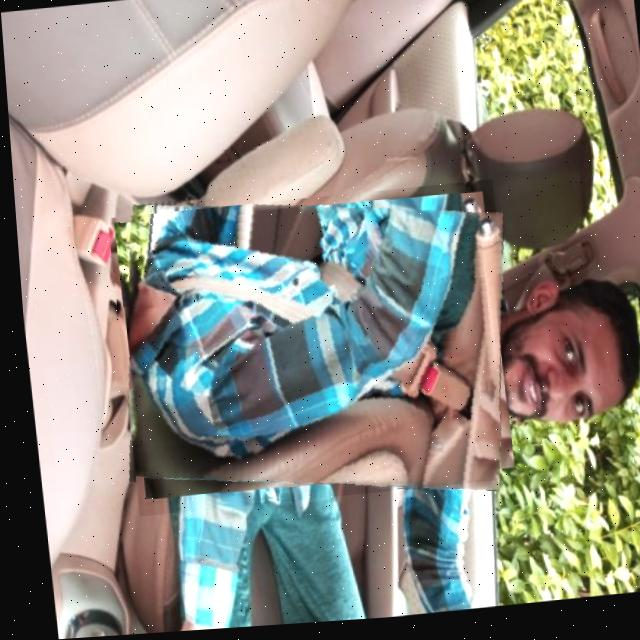seatbelt: (103, 184, 517, 517)
